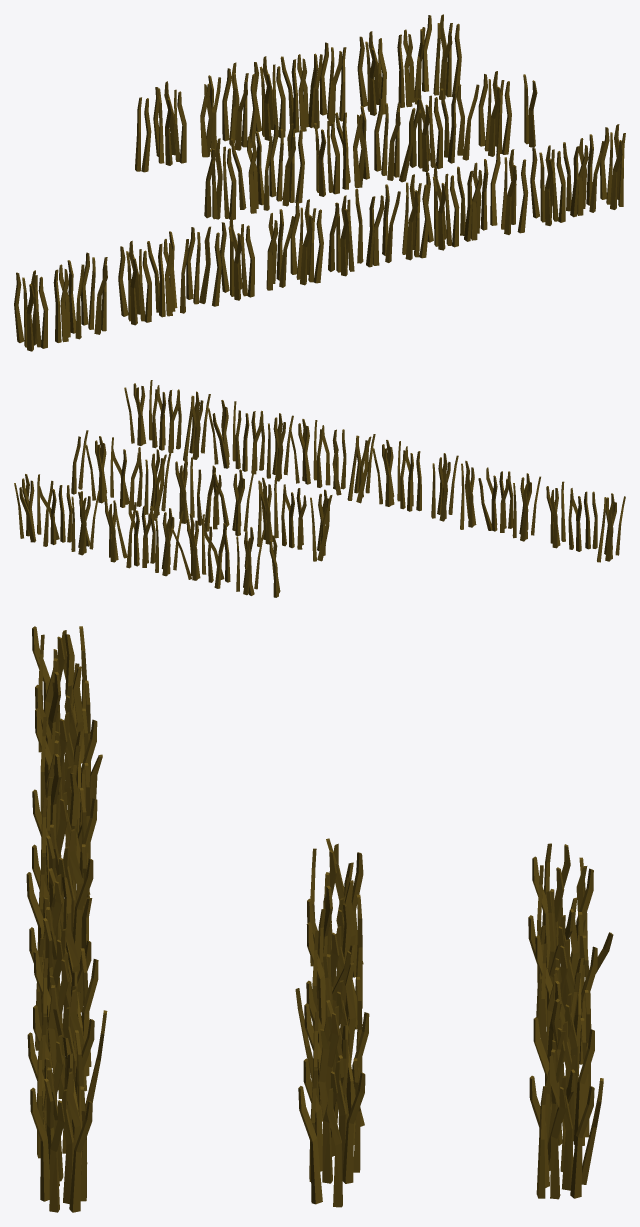
Rendered from Farm_SecondAge_Level1_Wheat.obj.
The picture shows the model from 3 angles, top to bottom: view 1: azimuth 30°, elevation 25°; view 2: azimuth 150°, elevation 25°; view 3: azimuth 270°, elevation 25°; orthographic projection. The views are drawn at different scales.
Visible parts, largest first — view 1: Farm_SecondAge_Level1_Wheat; view 2: Farm_SecondAge_Level1_Wheat; view 3: Farm_SecondAge_Level1_Wheat.
Boxes of the visible parts, x1=… form: Farm_SecondAge_Level1_Wheat: x1=14, y1=14, x2=625, y2=351; Farm_SecondAge_Level1_Wheat: x1=14, y1=380, x2=625, y2=597; Farm_SecondAge_Level1_Wheat: x1=26, y1=626, x2=613, y2=1212.
Bounding box in the file's own units: 1.48 × 0.186 × 0.7686.
